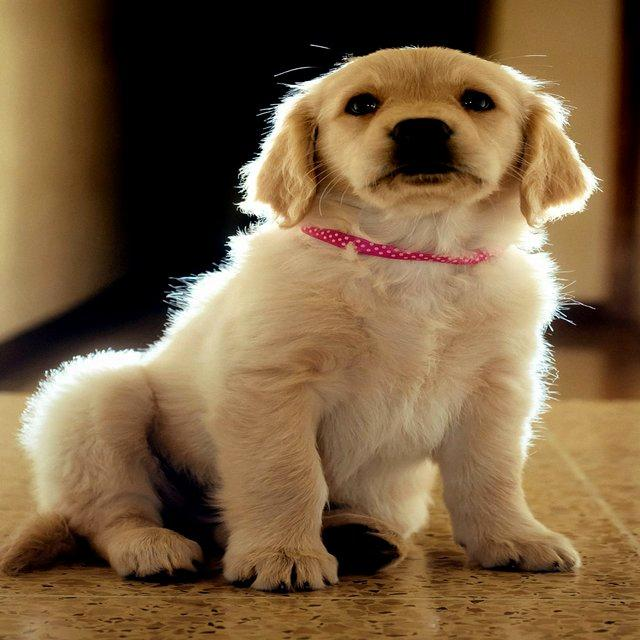retriever: (1, 43, 601, 593)
